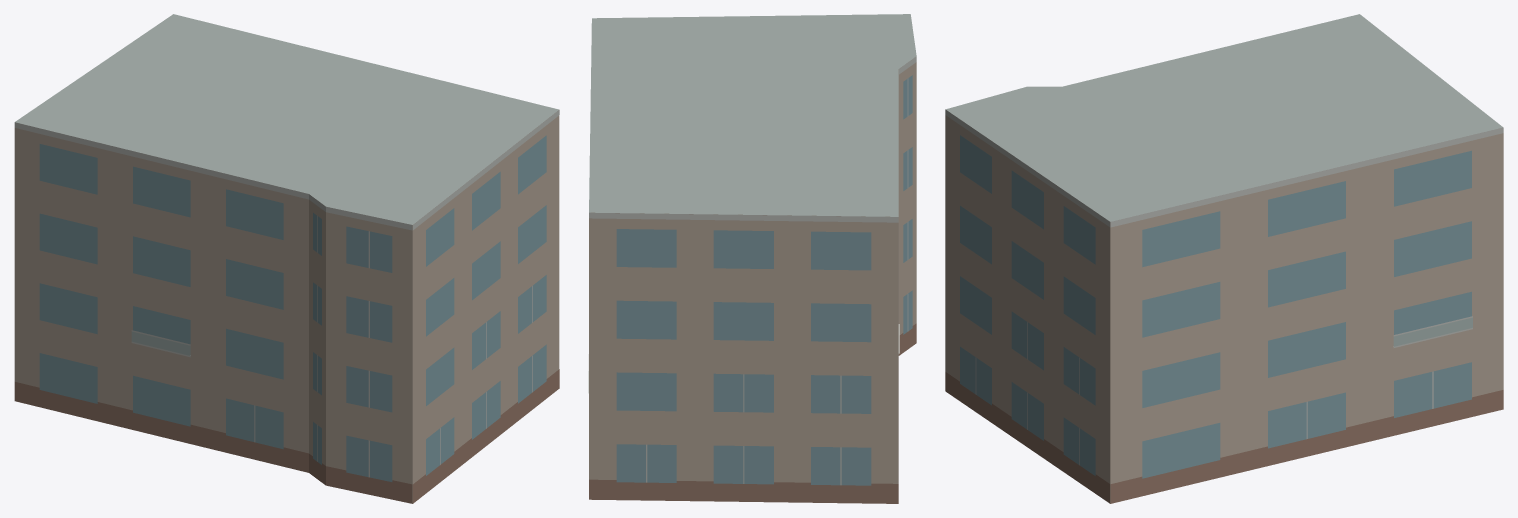
The model's file is survey-upis-32999550.glb.
3 renders of one model, left to right at view 1: azimuth 30°, elevation 25°; view 2: azimuth 150°, elevation 25°; view 3: azimuth 270°, elevation 25°, orthographic. The views are drawn at different scales.
Parts seen in each view (by area): view 1: survey-upis-32999550.tmp; view 2: survey-upis-32999550.tmp; view 3: survey-upis-32999550.tmp.
Part boxes in pixels (left/top/right/bottom): survey-upis-32999550.tmp: left=14, top=14, right=559, bottom=503; survey-upis-32999550.tmp: left=588, top=14, right=916, bottom=503; survey-upis-32999550.tmp: left=945, top=14, right=1503, bottom=503.
Bounding box in the file's own units: 19.31 × 12.2 × 21.89.
